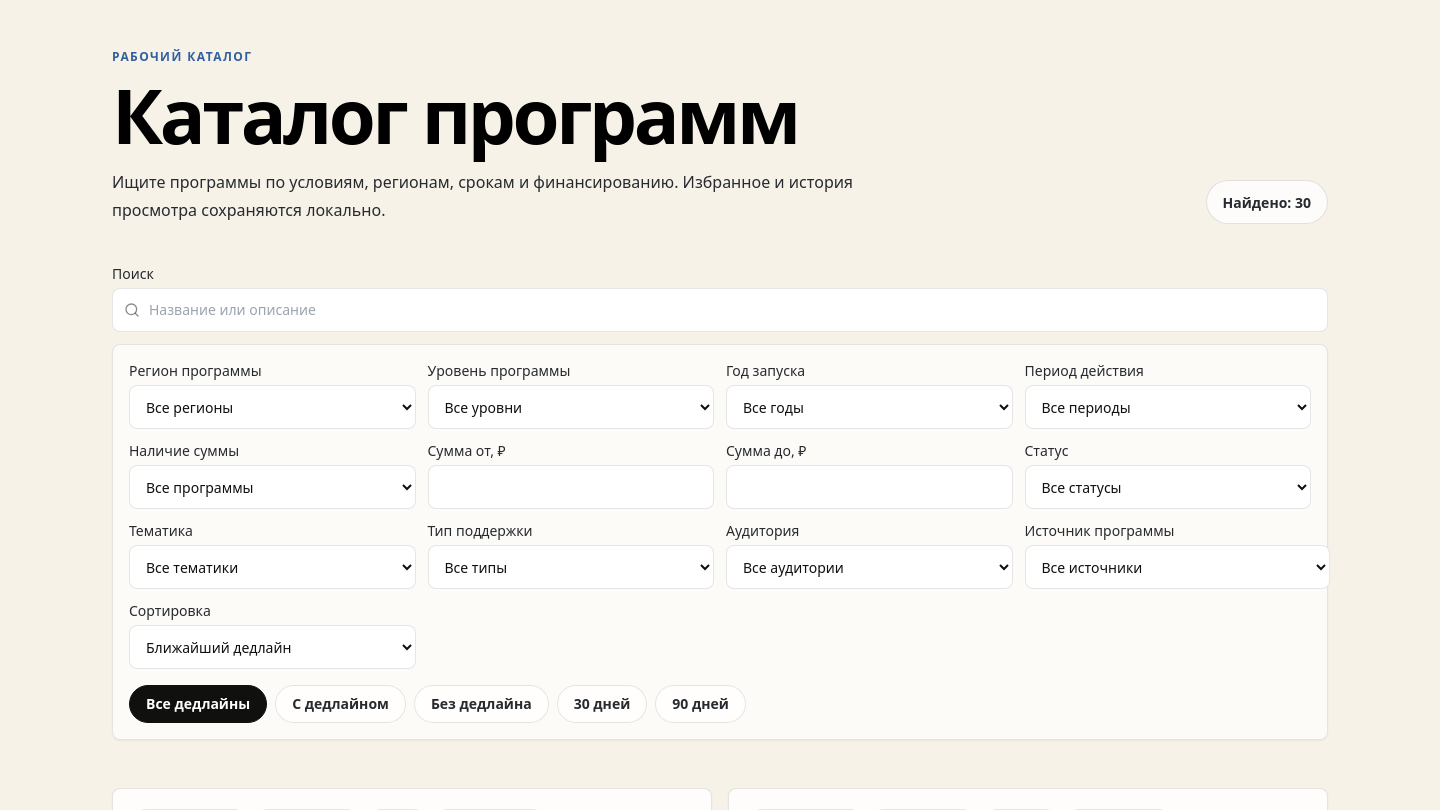
ProgramsTab › shows active filter chips and resets filters
Select "Максимальная сумма" in the dropdown labelled "Сортировка" at (272, 648), box 129,626 -> 416,670
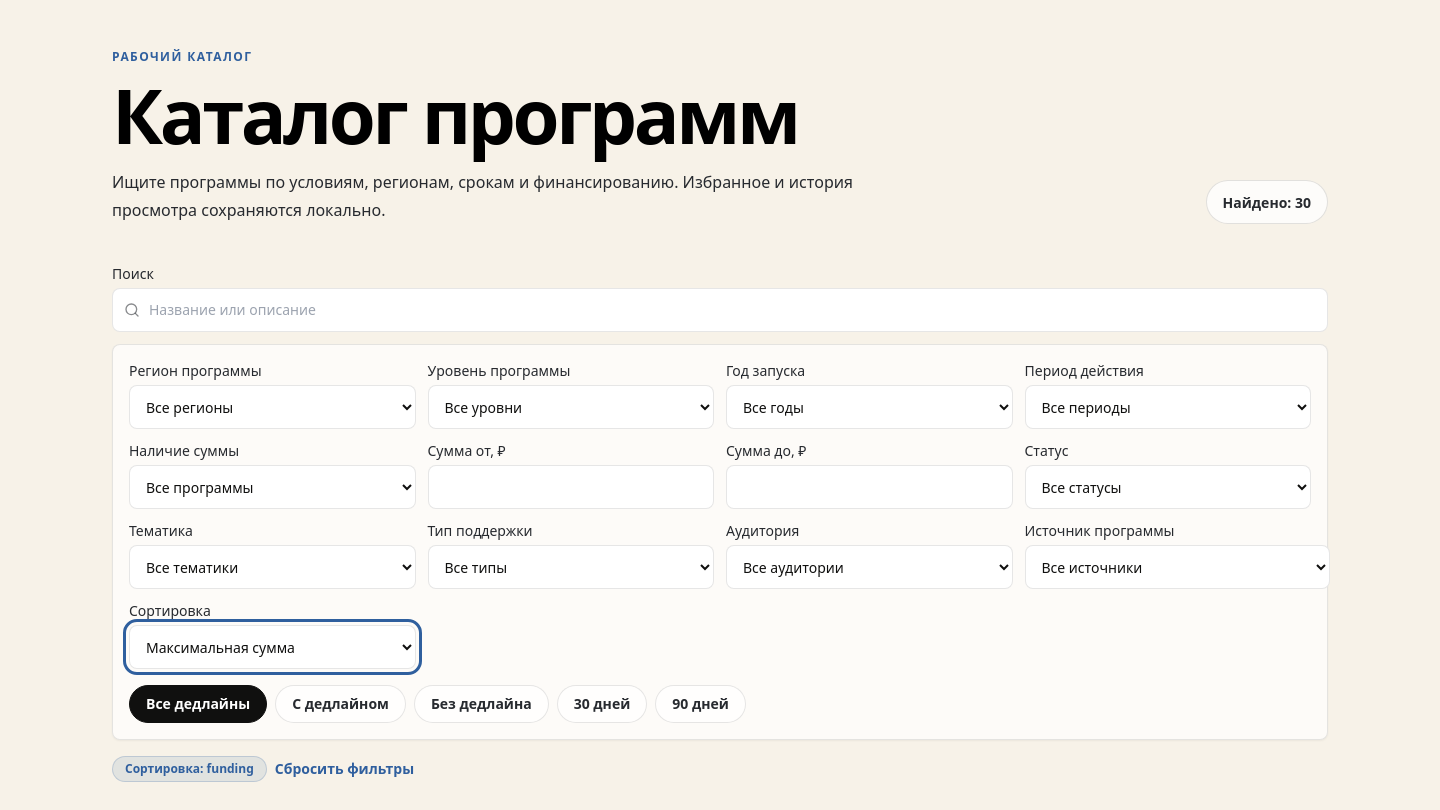
Type "ИИ" into the field labelled "Поиск" at (720, 310), box 112,288 -> 1328,332
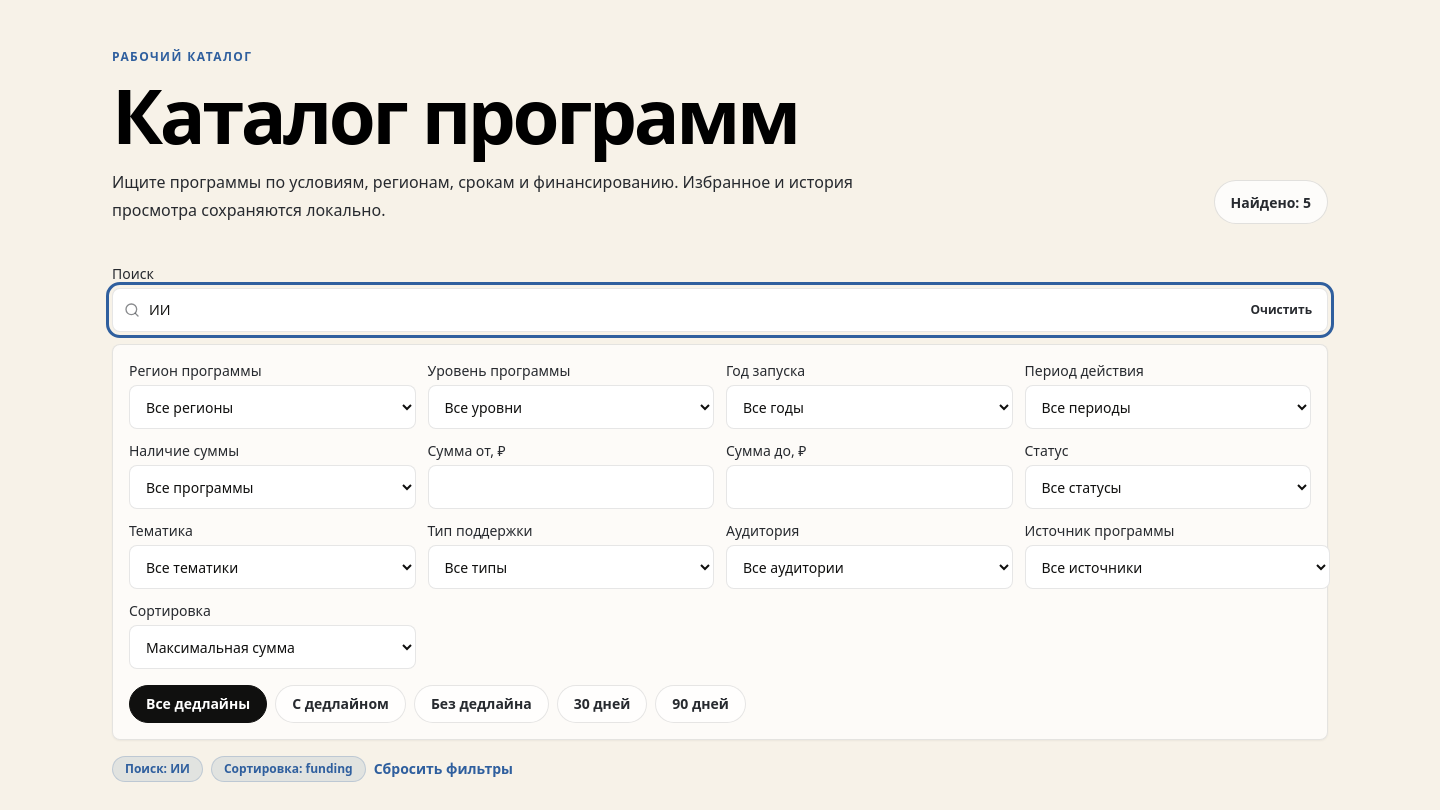
Select "Акселерация" in the dropdown labelled "Тип поддержки" at (571, 568), box 428,546 -> 714,590
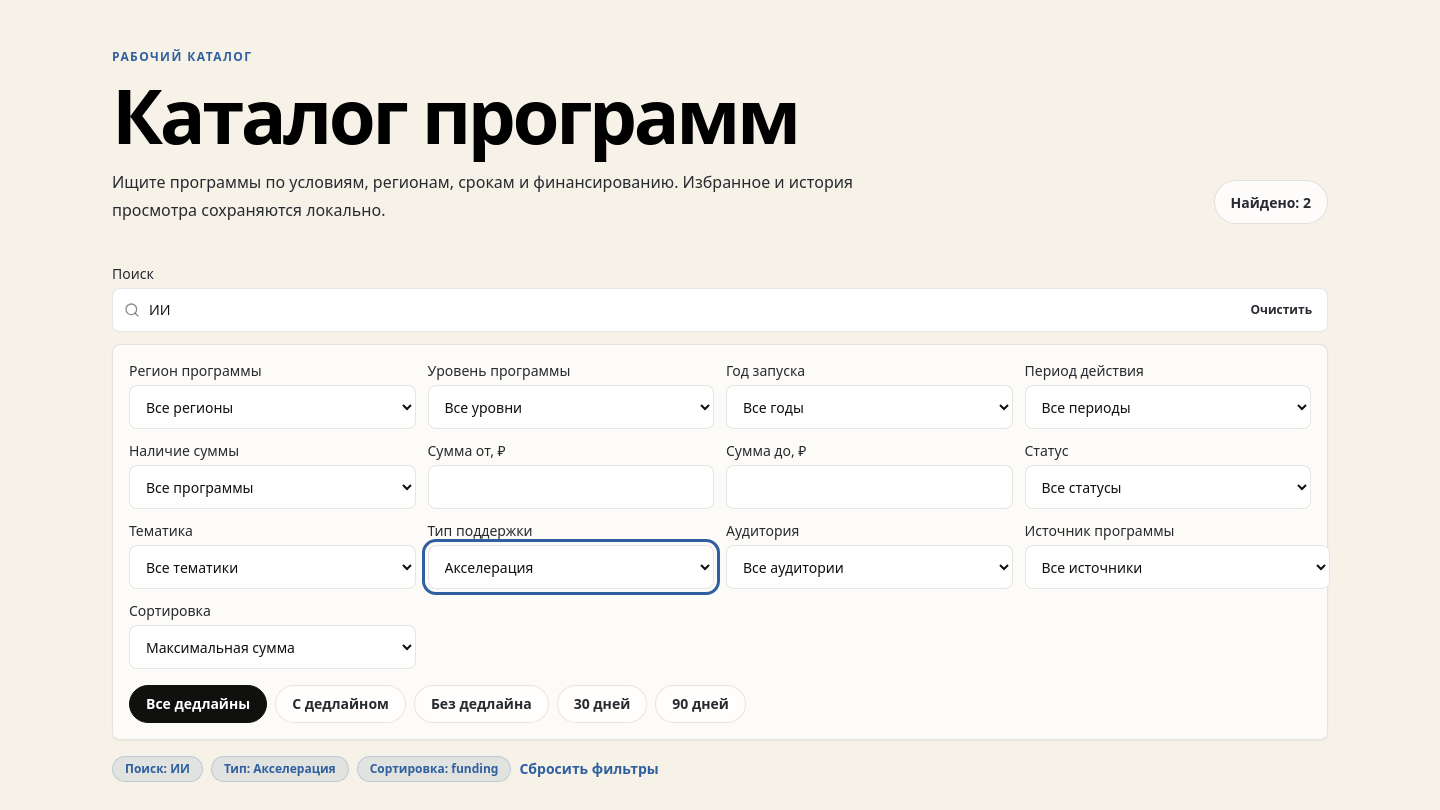
Result: the text "Поиск: ИИ" is shown at 112,756 -> 203,782
Result: the button with aria-label "Очистить поиск" is shown at 1242,298 -> 1320,322
Result: the text "Тип: Акселерация" is shown at 211,756 -> 349,782
Click the button "Сбросить фильтры" at (589, 770), box 520,760 -> 659,780
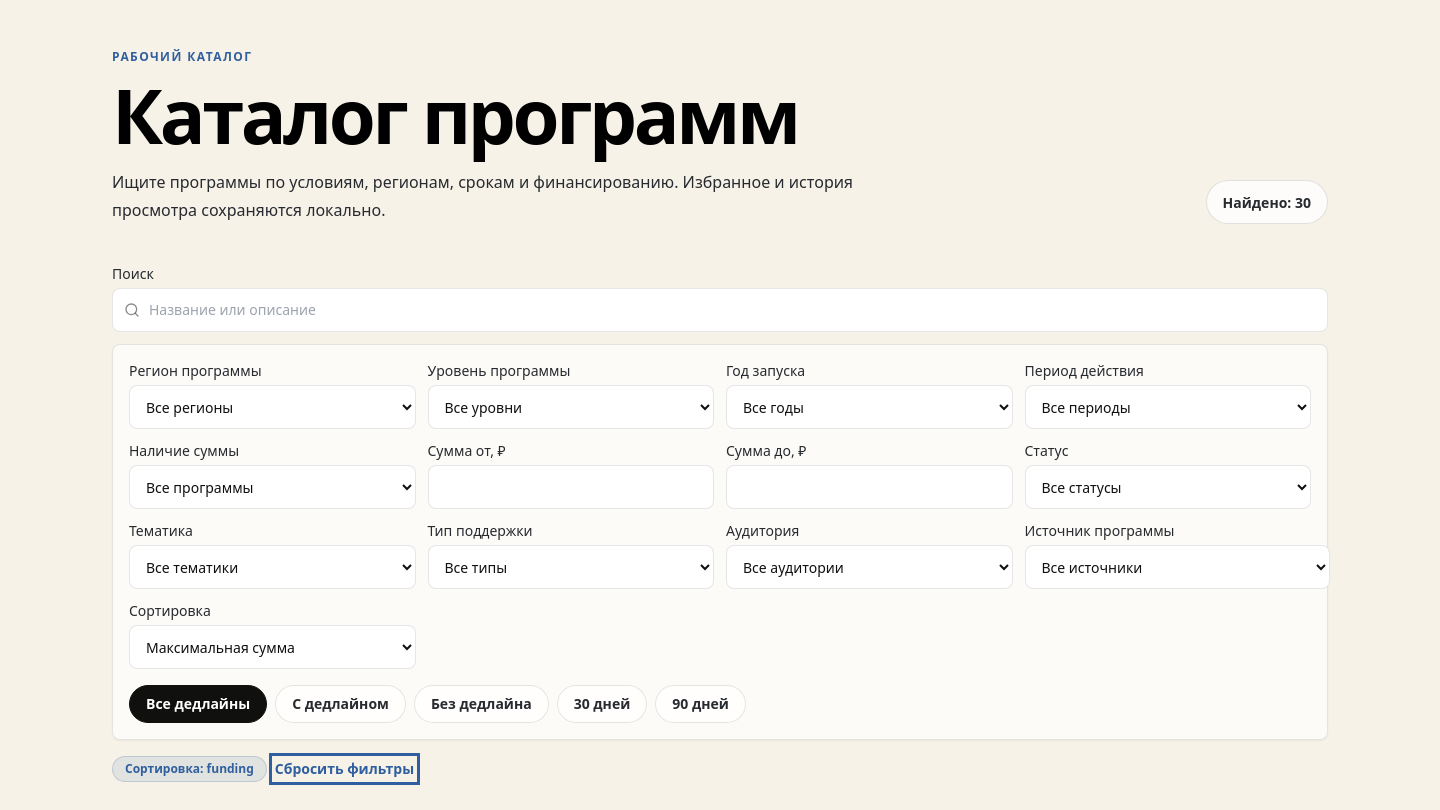
Result: the text "Поиск: ИИ" is gone
